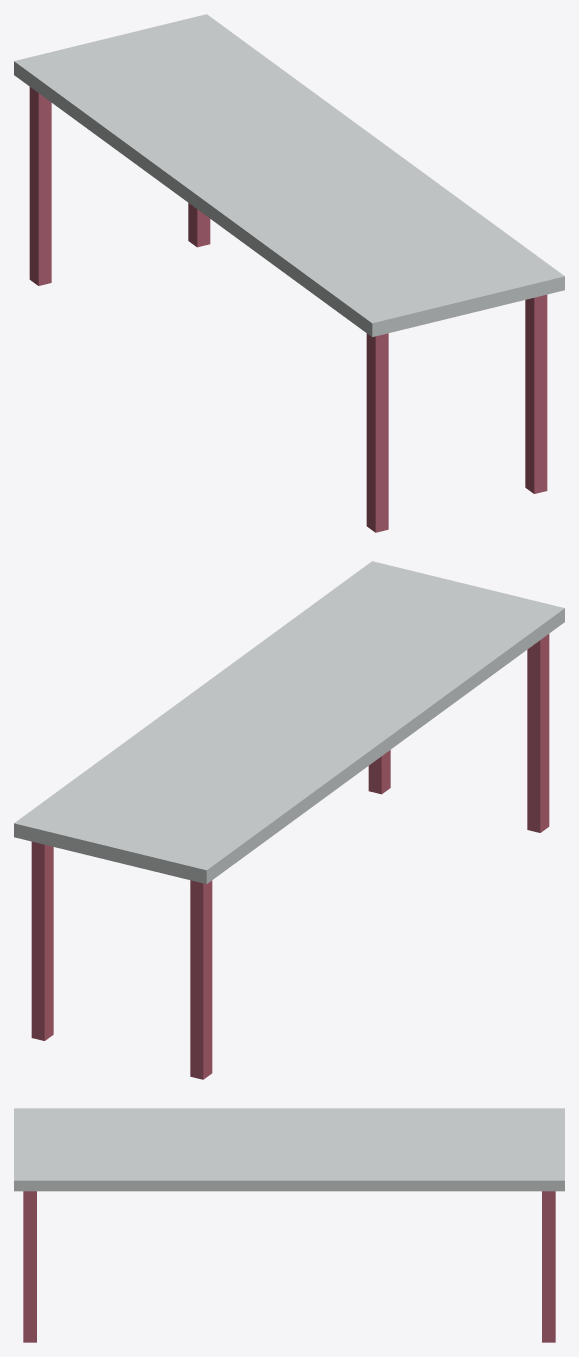
The model's file is mesa_longa.fbx.
3 views of the same model, one above another, from view 1: azimuth 30°, elevation 25°; view 2: azimuth 150°, elevation 25°; view 3: azimuth 270°, elevation 25° (orthographic). The views are drawn at different scales.
Parts seen in each view (by area): view 1: Mesa_prof; view 2: Mesa_prof; view 3: Mesa_prof.
Part boxes in pixels (box(x1,y1,x2,y2)): Mesa_prof: box(14, 14, 564, 532); Mesa_prof: box(14, 561, 564, 1079); Mesa_prof: box(14, 1108, 564, 1342).
Size of the model in its own units: 96.32 by 103 by 310.
